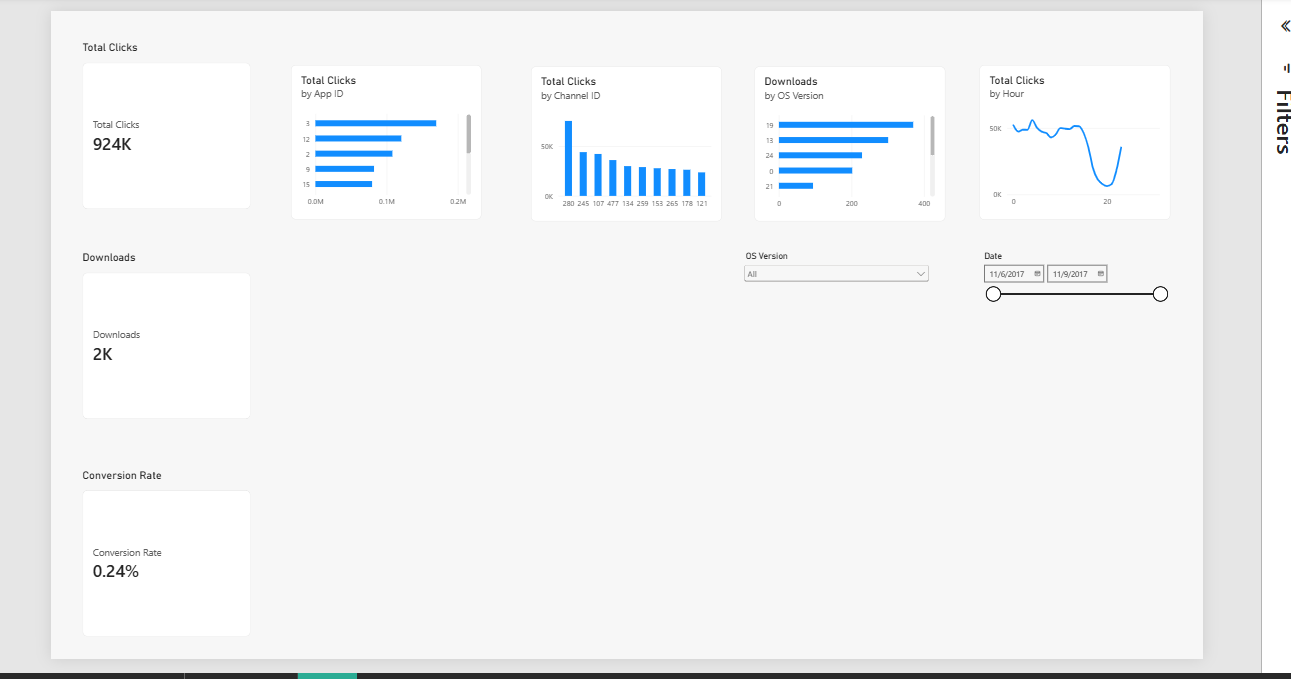

Layout of this report page (visuals, bound fields, positions):
{"tool":"powerbi","page":{"name":"Page 1","canvas":[1920,1080],"ordinal":0},"visuals":[{"type":"cardVisual","title":"Total Clicks","fields":{"Data":["clicks.Total Clicks"]},"box":[52.5,50,280,280],"z":0},{"type":"cardVisual","title":"Downloads","fields":{"Data":["clicks.Downloads"]},"box":[52.5,400,280,280],"z":1000},{"type":"cardVisual","title":"Conversion Rate","fields":{"Data":["clicks.Conversion Rate"]},"box":[52.5,762.5,280,280],"z":2000},{"type":"clusteredBarChart","fields":{"Category":["clicks.App ID"],"Y":["clicks.Total Clicks"]},"box":[400,90,317.5,257.5],"z":3000},{"type":"clusteredColumnChart","fields":{"Category":["clicks.Channel ID"],"Y":["clicks.Total Clicks"]},"box":[800,92.5,318,258],"z":4000},{"type":"clusteredBarChart","fields":{"Category":["clicks.OS Version"],"Y":["clicks.Downloads"]},"box":[1172.5,92.5,318,258],"z":5000},{"type":"lineChart","fields":{"Category":["clicks.Hour"],"Y":["clicks.Total Clicks"]},"box":[1547.5,90,318,258],"z":5001},{"type":"slicer","fields":{"Values":["clicks.Date"]},"box":[1547.5,400,318,280],"z":5002},{"type":"slicer","fields":{"Values":["clicks.OS Version"]},"box":[1150,400,318,280],"z":5004}]}

Visuals, with their boxes on the page's 1920x1080 design canvas (x1, y1, x2, y2). These are canvas units, not pixel positions in the 1291x679 screenshot, which may show the page scaled, cropped or inside an application window:
"Total Clicks" cardVisual: locate(52, 50, 332, 330)
"Downloads" cardVisual: locate(52, 400, 332, 680)
"Conversion Rate" cardVisual: locate(52, 762, 332, 1042)
clusteredBarChart - clicks.App ID x clicks.Total Clicks: locate(400, 90, 718, 348)
clusteredColumnChart - clicks.Channel ID x clicks.Total Clicks: locate(800, 92, 1118, 350)
clusteredBarChart - clicks.OS Version x clicks.Downloads: locate(1172, 92, 1490, 350)
lineChart - clicks.Hour x clicks.Total Clicks: locate(1548, 90, 1866, 348)
slicer - clicks.Date: locate(1548, 400, 1866, 680)
slicer - clicks.OS Version: locate(1150, 400, 1468, 680)
